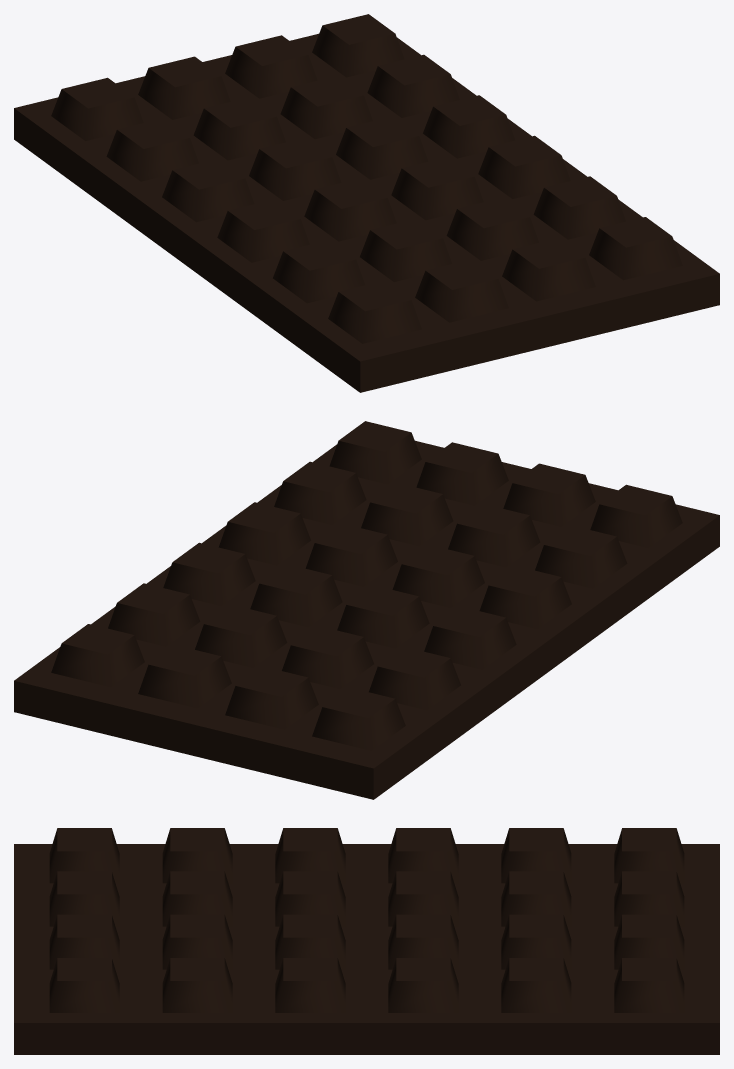
File: chocolate-bar.glb
3 renders of one model, top to bottom at view 1: azimuth 30°, elevation 25°; view 2: azimuth 150°, elevation 25°; view 3: azimuth 270°, elevation 25°, orthographic.
Visible parts, largest first — view 1: BarBaseSlab, SnapBlock_r5_c2, SnapBlock_r5_c1, SnapBlock_r5_c0, SnapBlock_r5_c3, SnapBlock_r1_c0, SnapBlock_r1_c2, SnapBlock_r1_c3, SnapBlock_r3_c0, SnapBlock_r3_c1, SnapBlock_r3_c2, SnapBlock_r0_c3 (+13 smaller); view 2: BarBaseSlab, SnapBlock_r0_c2, SnapBlock_r0_c1, SnapBlock_r0_c0, SnapBlock_r0_c3, SnapBlock_r4_c0, SnapBlock_r2_c0, SnapBlock_r2_c1, SnapBlock_r2_c2, SnapBlock_r4_c2, SnapBlock_r4_c3, SnapBlock_r1_c3 (+13 smaller); view 3: BarBaseSlab, SnapBlock_r1_c3, SnapBlock_r2_c3, SnapBlock_r3_c3, SnapBlock_r4_c3, SnapBlock_r0_c3, SnapBlock_r5_c3, SnapBlock_r0_c0, SnapBlock_r2_c0, SnapBlock_r3_c0, SnapBlock_r5_c0, SnapBlock_r0_c1 (+13 smaller).
Boxes of the visible parts, left/top/right/bottom form: BarBaseSlab: left=14, top=33, right=719, bottom=392; SnapBlock_r5_c2: left=502, top=238, right=595, bottom=301; SnapBlock_r5_c1: left=415, top=259, right=508, bottom=322; SnapBlock_r5_c0: left=328, top=280, right=421, bottom=343; SnapBlock_r5_c3: left=589, top=217, right=682, bottom=280; SnapBlock_r1_c0: left=106, top=118, right=198, bottom=181; SnapBlock_r1_c2: left=280, top=76, right=372, bottom=139; SnapBlock_r1_c3: left=367, top=54, right=459, bottom=117; SnapBlock_r3_c0: left=217, top=199, right=309, bottom=262; SnapBlock_r3_c1: left=304, top=178, right=396, bottom=241; SnapBlock_r3_c2: left=391, top=157, right=483, bottom=220; SnapBlock_r0_c3: left=312, top=14, right=404, bottom=77; BarBaseSlab: left=14, top=440, right=719, bottom=799; SnapBlock_r0_c2: left=138, top=645, right=231, bottom=708; SnapBlock_r0_c1: left=225, top=666, right=318, bottom=729; SnapBlock_r0_c0: left=312, top=687, right=405, bottom=750; SnapBlock_r0_c3: left=51, top=624, right=144, bottom=687; SnapBlock_r4_c0: left=535, top=525, right=627, bottom=588; SnapBlock_r2_c0: left=424, top=606, right=516, bottom=669; SnapBlock_r2_c1: left=337, top=585, right=429, bottom=648; SnapBlock_r2_c2: left=250, top=564, right=342, bottom=627; SnapBlock_r4_c2: left=361, top=483, right=453, bottom=546; SnapBlock_r4_c3: left=274, top=461, right=366, bottom=524; SnapBlock_r1_c3: left=108, top=583, right=200, bottom=646; BarBaseSlab: left=14, top=844, right=719, bottom=1054; SnapBlock_r1_c3: left=501, top=958, right=571, bottom=1012; SnapBlock_r2_c3: left=388, top=958, right=458, bottom=1012; SnapBlock_r3_c3: left=275, top=958, right=345, bottom=1012; SnapBlock_r4_c3: left=162, top=958, right=232, bottom=1012; SnapBlock_r0_c3: left=614, top=958, right=684, bottom=1012; SnapBlock_r5_c3: left=49, top=958, right=119, bottom=1012; SnapBlock_r0_c0: left=614, top=828, right=684, bottom=883; SnapBlock_r2_c0: left=388, top=828, right=458, bottom=883; SnapBlock_r3_c0: left=275, top=828, right=345, bottom=883; SnapBlock_r5_c0: left=49, top=828, right=119, bottom=883; SnapBlock_r0_c1: left=614, top=871, right=684, bottom=926.
Size of the model in its own units: 2.4 by 0.38 by 4.
